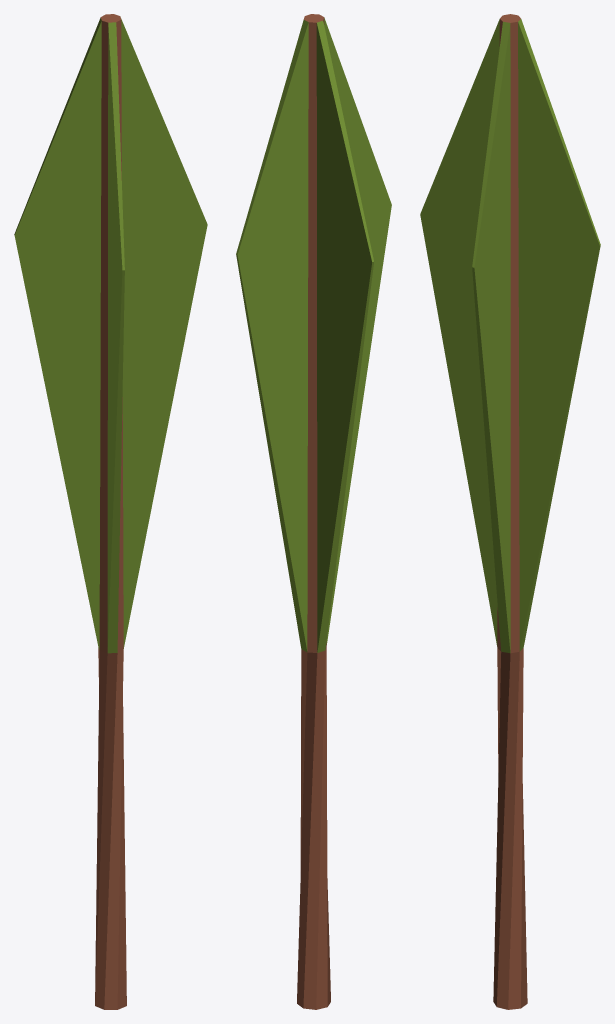
File: Tree_29_autumn_pal.fbx
3 views of the same model, side by side, from view 1: azimuth 30°, elevation 25°; view 2: azimuth 150°, elevation 25°; view 3: azimuth 270°, elevation 25° (orthographic).
Visible parts, largest first — view 1: Tree_29_autumn_pal; view 2: Tree_29_autumn_pal; view 3: Tree_29_autumn_pal.
Boxes of the visible parts, x1,y1,x2,y2 form: Tree_29_autumn_pal: (14,14,207,1009); Tree_29_autumn_pal: (236,14,391,1009); Tree_29_autumn_pal: (420,14,600,1009).
Size of the model in its own units: 48.99 by 294 by 48.99.
